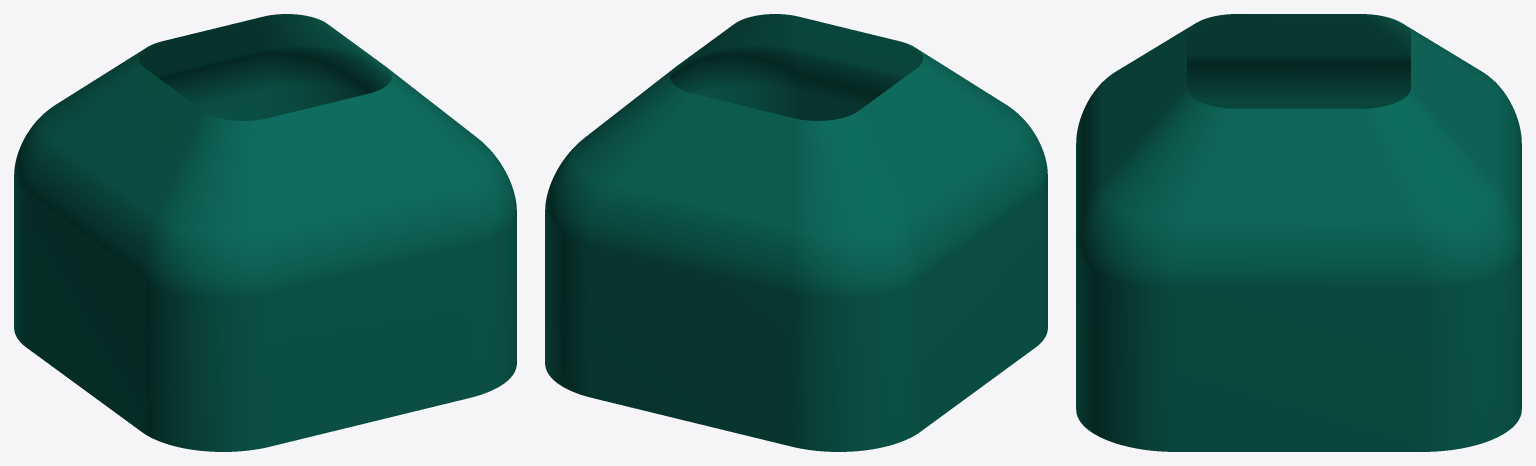
File: Room3.glb
3 renders of one model, left to right at view 1: azimuth 30°, elevation 25°; view 2: azimuth 150°, elevation 25°; view 3: azimuth 270°, elevation 25°, orthographic. The views are drawn at different scales.
Visible parts, largest first — view 1: walls; view 2: walls; view 3: walls.
Part boxes in pixels (left/top/right/bottom): walls: left=14, top=14, right=516, bottom=451; walls: left=545, top=14, right=1047, bottom=451; walls: left=1076, top=14, right=1521, bottom=451.
Size of the model in its own units: 68.54 by 50.36 by 68.54.
